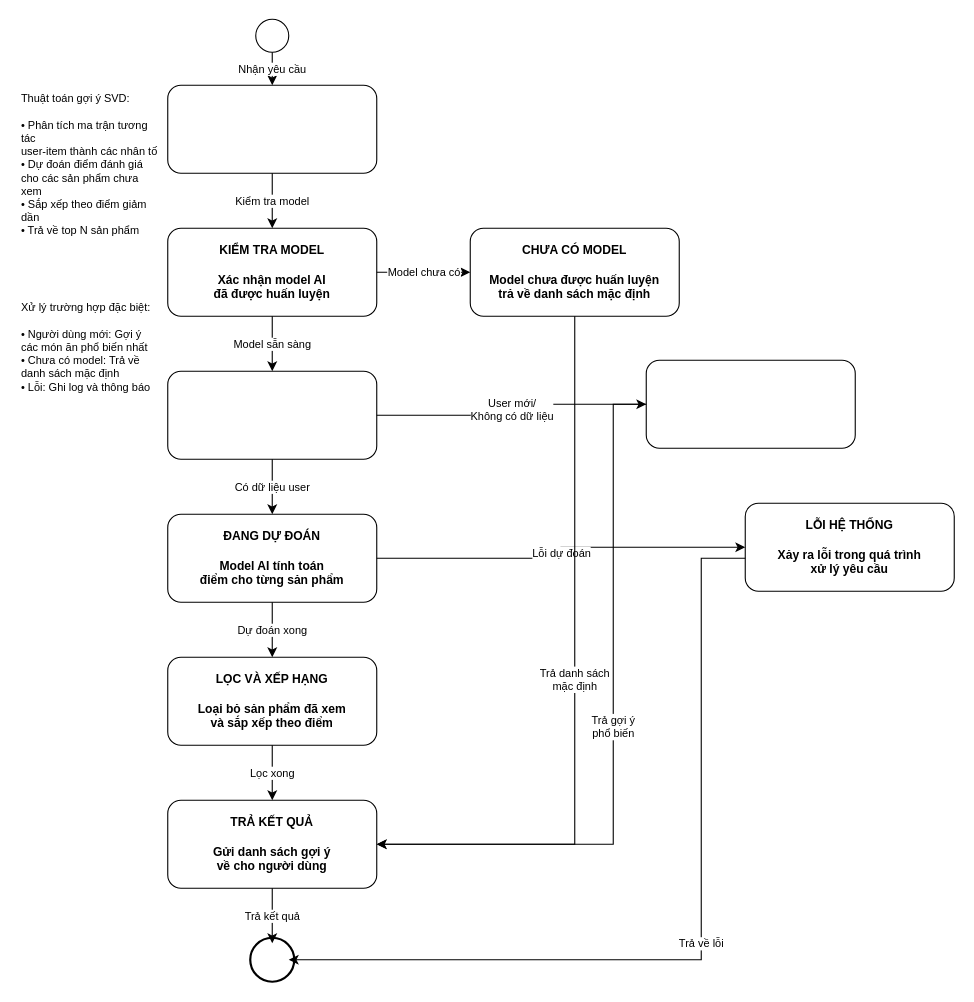
The diagram is 974 pixels wide and 1002 high, and some of its shapes have lost their labels. Each missing label, with the centre of its shape:
NGƯỜI DÙNG MỚI Chưa có dữ liệu tương tác dùng gợi ý phổ biến: (x=750, y=403)
TẢI DỮ LIỆU NGƯỜI DÙNG Lấy lịch sử tương tác và sở thích của user: (x=272, y=414)
ĐÃ NHẬN YÊU CẦU Hệ thống nhận yêu cầu gợi ý từ người dùng: (x=272, y=128)
